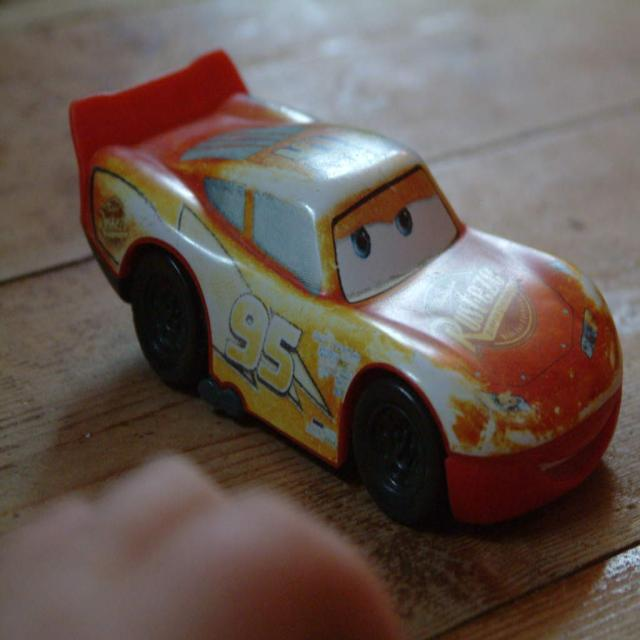Toy: (84, 78, 625, 540)
